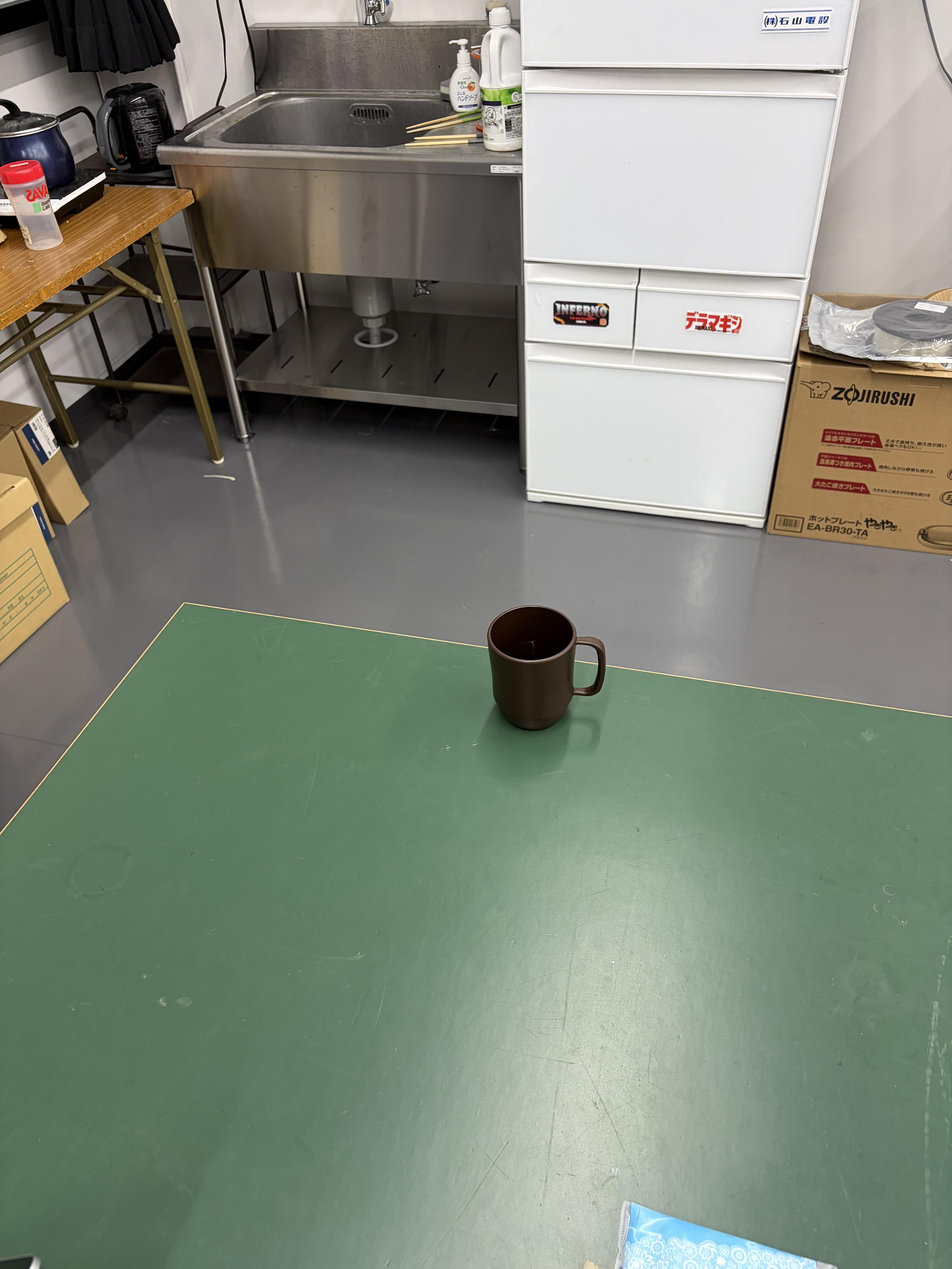mug-real100-3d100: (488, 606, 606, 730)
